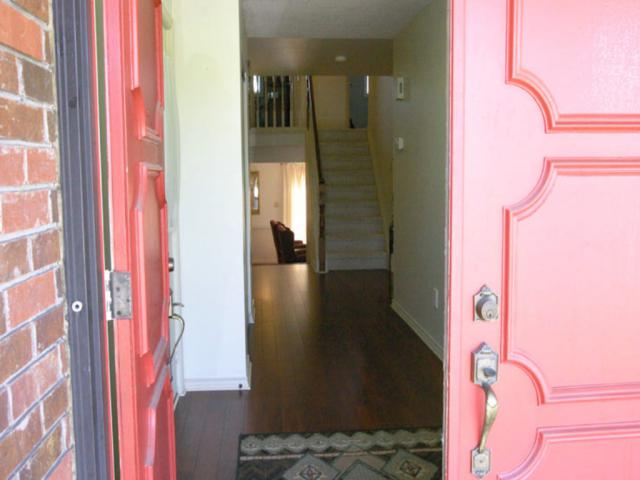Door-handle: (473, 341, 501, 479), (166, 285, 186, 367), (472, 282, 500, 323), (164, 258, 173, 274)
